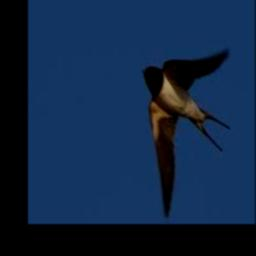Swallow: (143, 49, 231, 219)
